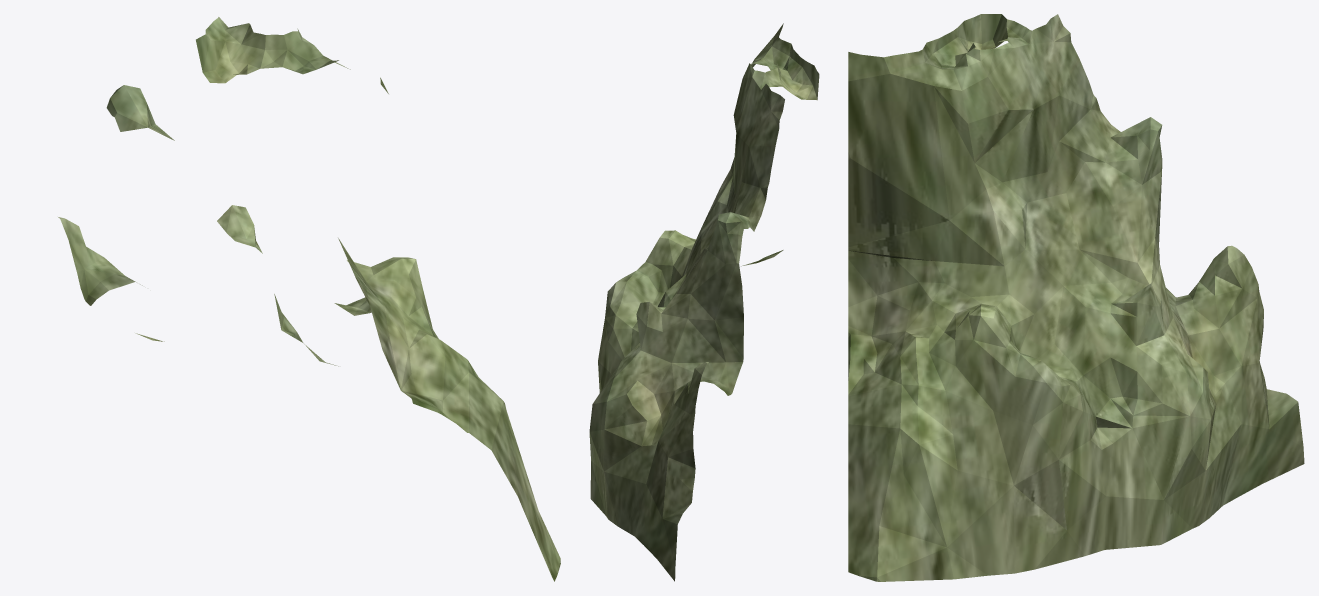
3 renders of one model, left to right at view 1: azimuth 30°, elevation 25°; view 2: azimuth 150°, elevation 25°; view 3: azimuth 270°, elevation 25°, orthographic. The views are drawn at different scales.
Bounding box in the file's own units: 1.66 × 2.95 × 2.71.
3 materials, 3 textured.
